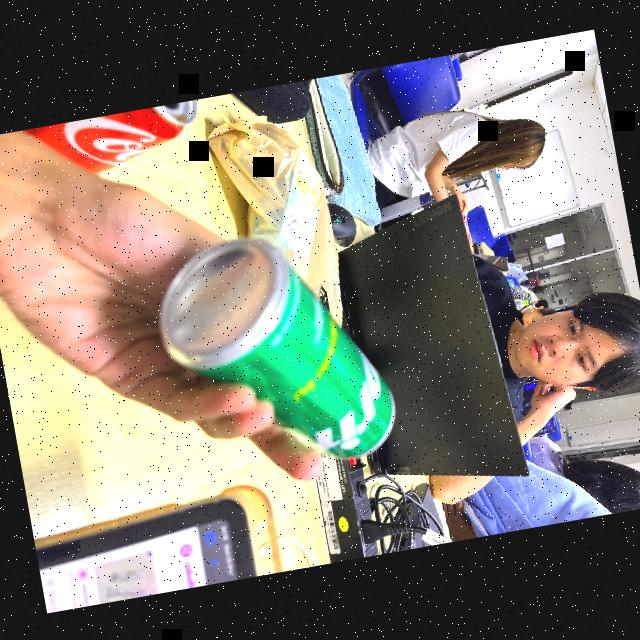can: (153, 214, 412, 482), (39, 96, 221, 185)
